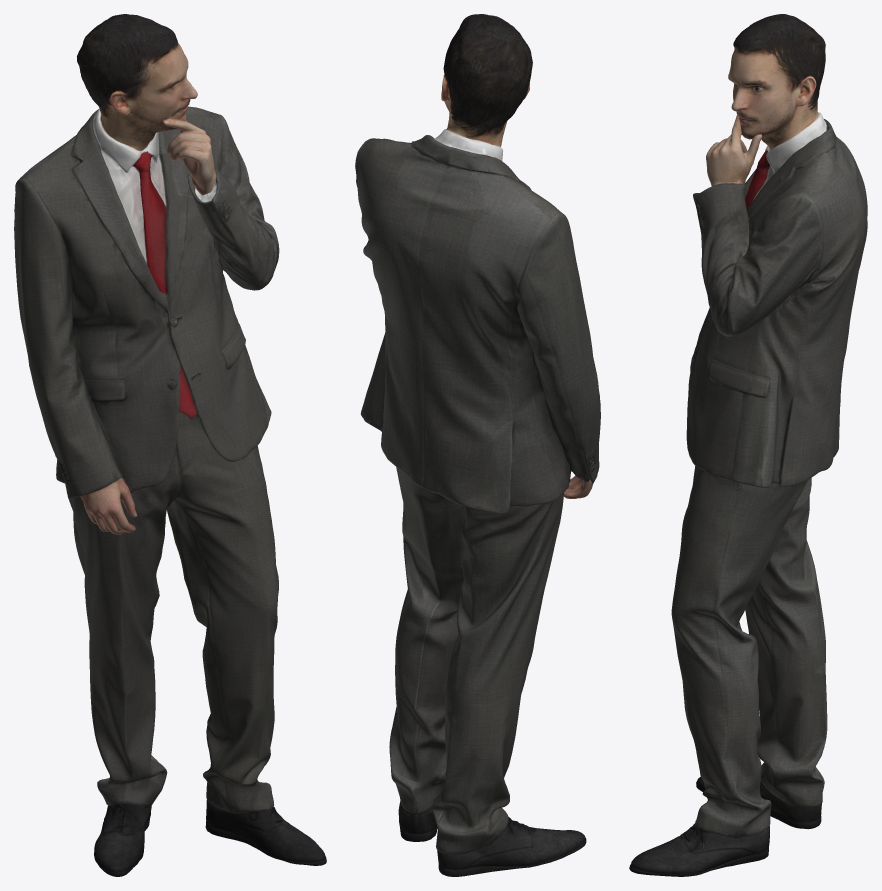
The picture shows the model from 3 angles, left to right: view 1: azimuth 30°, elevation 25°; view 2: azimuth 150°, elevation 25°; view 3: azimuth 270°, elevation 25°; orthographic projection. The views are drawn at different scales.
Parts seen in each view (by area): view 1: GTP_BMan_Jack_07_Stg_Lsn_Adl_Ccs_Gry_Mgr_GTP_BMan_Jack_07_St; view 2: GTP_BMan_Jack_07_Stg_Lsn_Adl_Ccs_Gry_Mgr_GTP_BMan_Jack_07_St; view 3: GTP_BMan_Jack_07_Stg_Lsn_Adl_Ccs_Gry_Mgr_GTP_BMan_Jack_07_St.
Part boxes in pixels (box(x1,y1,x2,y2)): GTP_BMan_Jack_07_Stg_Lsn_Adl_Ccs_Gry_Mgr_GTP_BMan_Jack_07_St: box(14, 14, 326, 876); GTP_BMan_Jack_07_Stg_Lsn_Adl_Ccs_Gry_Mgr_GTP_BMan_Jack_07_St: box(355, 14, 600, 876); GTP_BMan_Jack_07_Stg_Lsn_Adl_Ccs_Gry_Mgr_GTP_BMan_Jack_07_St: box(629, 14, 867, 876).
Bounding box in the file's own units: 53.9 × 185 × 50.12.
1 material, 1 textured.
